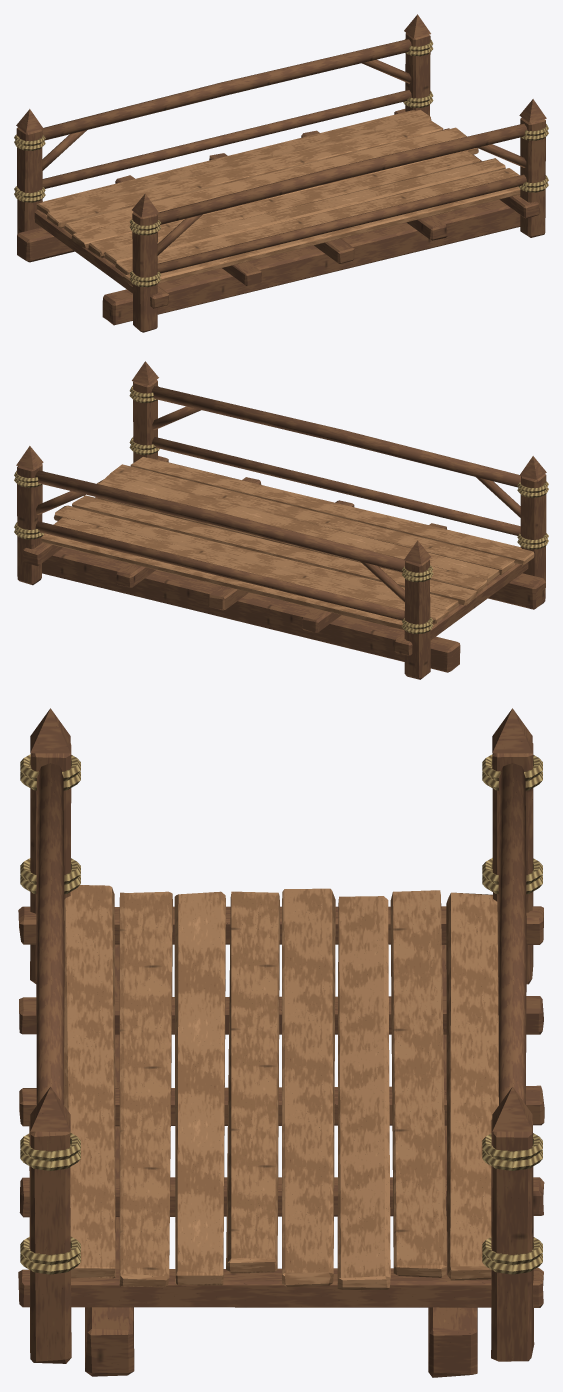
The model's file is timber_footbridge.glb.
The picture shows the model from 3 angles, top to bottom: view 1: azimuth 30°, elevation 25°; view 2: azimuth 150°, elevation 25°; view 3: azimuth 270°, elevation 25°; orthographic projection. The views are drawn at different scales.
Parts seen in each view (by area): view 1: timber_footbridge_deck_boards, timber_footbridge_rails, timber_footbridge_beams, timber_footbridge_posts, timber_footbridge_rope_lashings; view 2: timber_footbridge_deck_boards, timber_footbridge_rails, timber_footbridge_beams, timber_footbridge_posts, timber_footbridge_rope_lashings; view 3: timber_footbridge_deck_boards, timber_footbridge_beams, timber_footbridge_posts, timber_footbridge_rails, timber_footbridge_rope_lashings.
Boxes of the visible parts, left/top/right/bottom form: timber_footbridge_deck_boards: left=36, top=109, right=520, bottom=286; timber_footbridge_rails: left=42, top=39, right=527, bottom=273; timber_footbridge_beams: left=17, top=109, right=545, bottom=325; timber_footbridge_posts: left=16, top=14, right=546, bottom=332; timber_footbridge_rope_lashings: left=14, top=39, right=548, bottom=287; timber_footbridge_deck_boards: left=41, top=457, right=534, bottom=629; timber_footbridge_rails: left=35, top=386, right=521, bottom=620; timber_footbridge_beams: left=23, top=456, right=545, bottom=672; timber_footbridge_posts: left=16, top=361, right=546, bottom=679; timber_footbridge_rope_lashings: left=14, top=385, right=548, bottom=633; timber_footbridge_deck_boards: left=64, top=885, right=498, bottom=1289; timber_footbridge_beams: left=18, top=906, right=544, bottom=1377; timber_footbridge_posts: left=29, top=708, right=534, bottom=1363; timber_footbridge_rails: left=36, top=763, right=526, bottom=1104; timber_footbridge_rope_lashings: left=20, top=754, right=542, bottom=1274.
Size of what is drawn, in the model's own units: 4.21 by 1.25 by 2.21.
3 materials, 3 textured.
